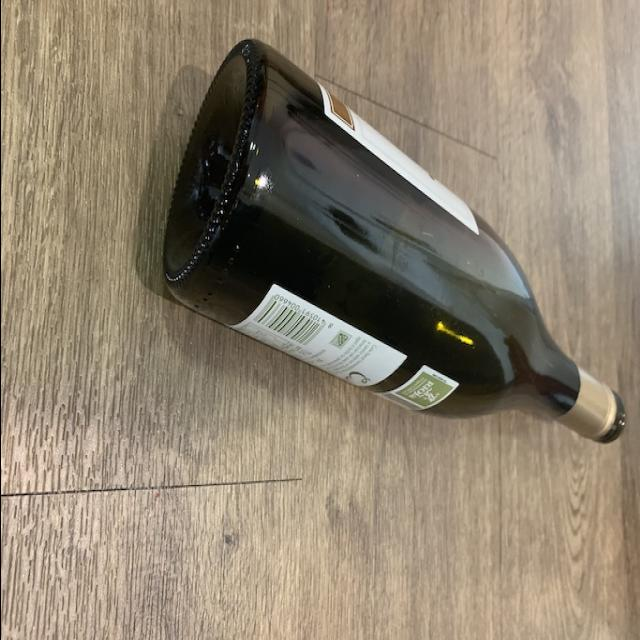Glass Bottle: (149, 30, 626, 450)
